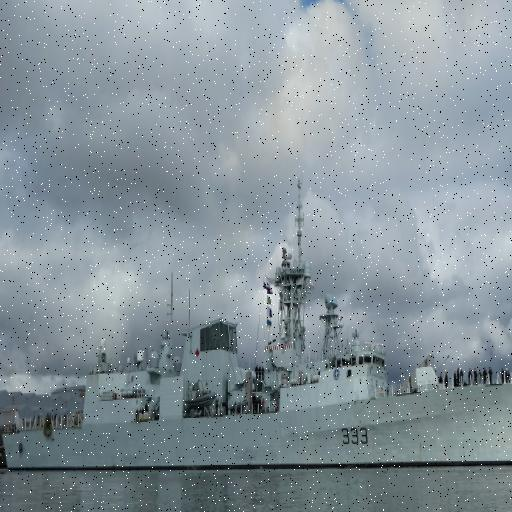Fragata: (1, 162, 512, 473)
